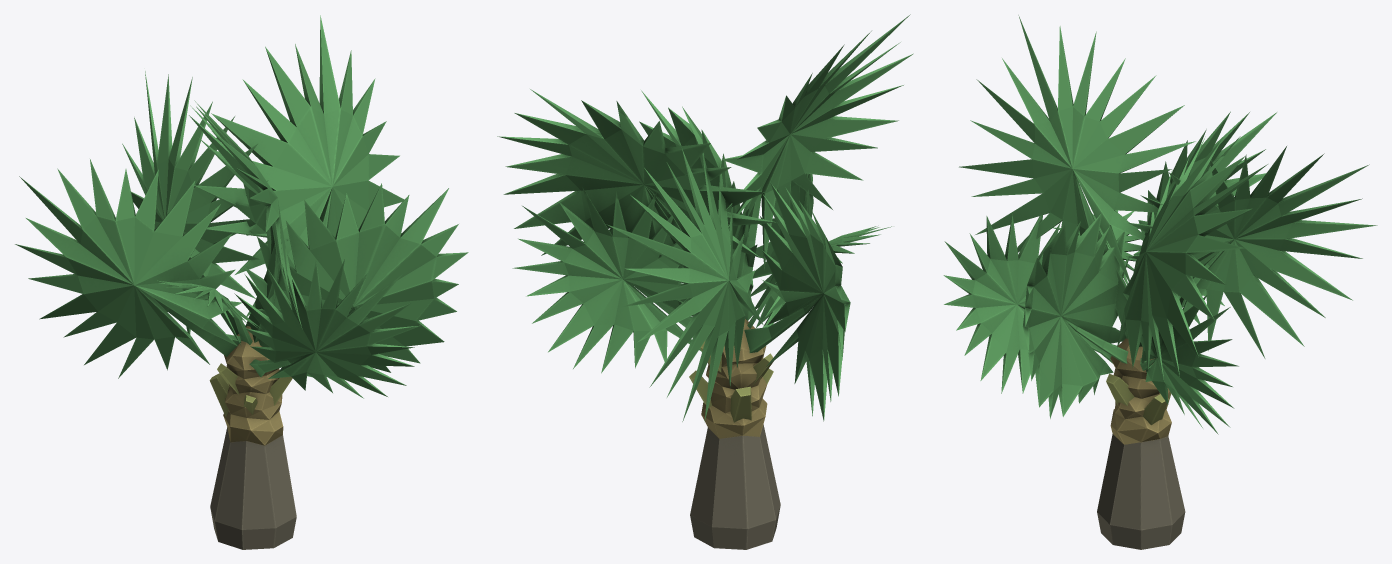
Rendered from 57671eaa-8a8b-4c3b-bd7d-dc1d11561872.glb.
3 renders of one model, left to right at view 1: azimuth 30°, elevation 25°; view 2: azimuth 150°, elevation 25°; view 3: azimuth 270°, elevation 25°, orthographic. The views are drawn at different scales.
Parts seen in each view (by area): view 1: BismarckPalmTree_mesh; view 2: BismarckPalmTree_mesh; view 3: BismarckPalmTree_mesh.
Boxes of the visible parts, <box> form: BismarckPalmTree_mesh: <box>15,15,468,549</box>; BismarckPalmTree_mesh: <box>497,14,913,549</box>; BismarckPalmTree_mesh: <box>943,15,1377,549</box>.
Size of the model in its own units: 7.7 by 9.79 by 8.24.
1 material, 1 textured.
